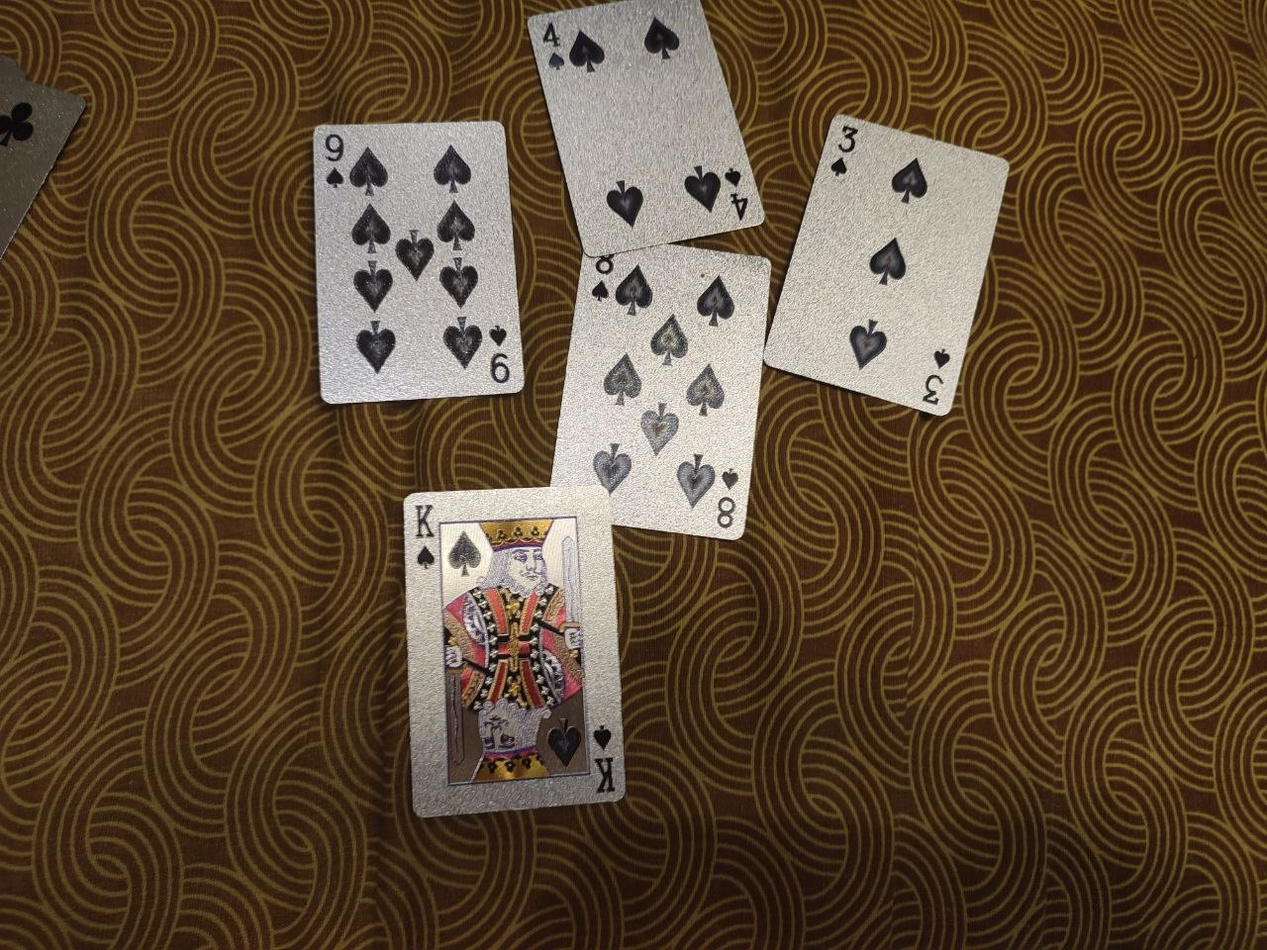3S: (764, 111, 1013, 417)
4S: (526, 0, 765, 257)
8S: (548, 243, 775, 545)
9S: (310, 118, 529, 407)
KS: (403, 485, 627, 817)
